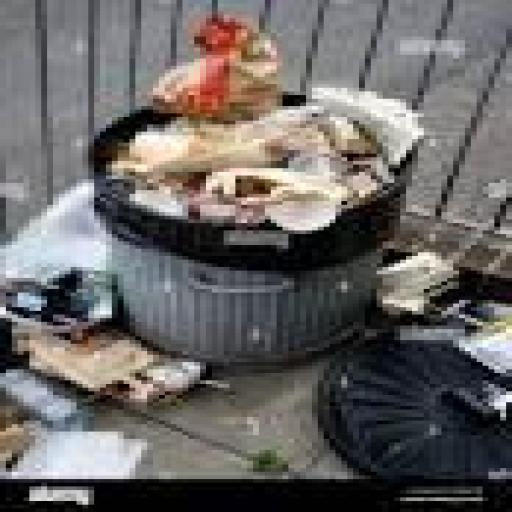poubelle_pleine: (25, 37, 457, 373)
